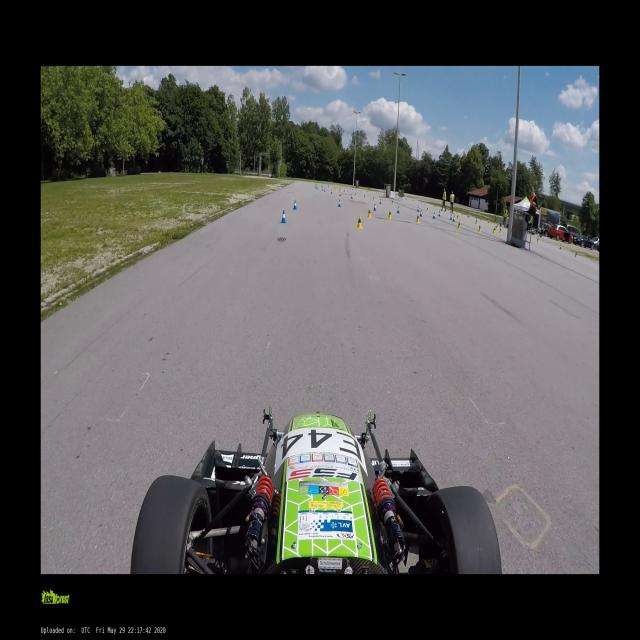blue_cone: (281, 210, 286, 223), (293, 200, 297, 211), (432, 212, 436, 220), (396, 206, 400, 214), (419, 209, 423, 216), (454, 217, 458, 224), (373, 203, 376, 212), (338, 199, 341, 207), (437, 211, 441, 216), (378, 199, 382, 204), (315, 185, 319, 190), (452, 216, 455, 222), (350, 193, 353, 199), (417, 206, 420, 212), (338, 192, 342, 196), (330, 189, 333, 193), (450, 214, 452, 219), (451, 210, 453, 214)
yellow_cone: (357, 216, 362, 229), (415, 214, 420, 224), (456, 221, 461, 230), (387, 209, 391, 220), (367, 208, 371, 218), (477, 225, 481, 233), (498, 226, 502, 233), (454, 217, 458, 224), (419, 209, 423, 216), (474, 219, 478, 224), (390, 200, 394, 205), (492, 228, 495, 234), (456, 214, 459, 220), (494, 225, 497, 231), (372, 196, 375, 201), (346, 190, 349, 194), (426, 207, 428, 212), (363, 194, 365, 199), (480, 218, 482, 222), (354, 193, 356, 197), (467, 215, 469, 218)
